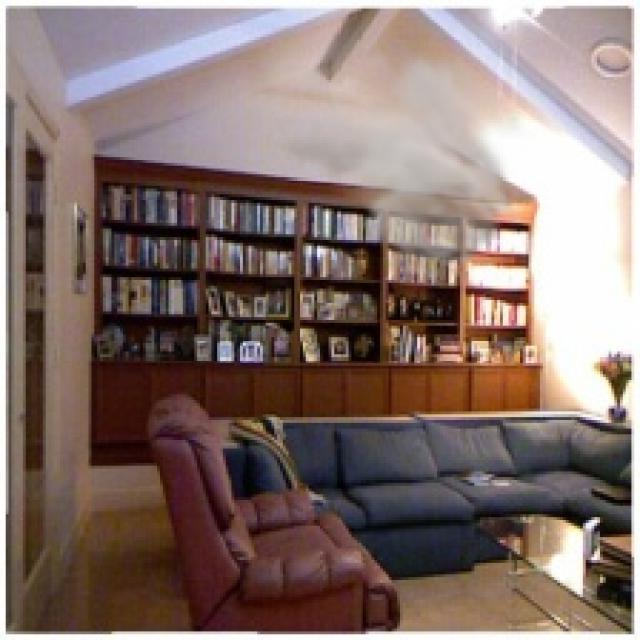Smoke: (274, 43, 537, 286)
